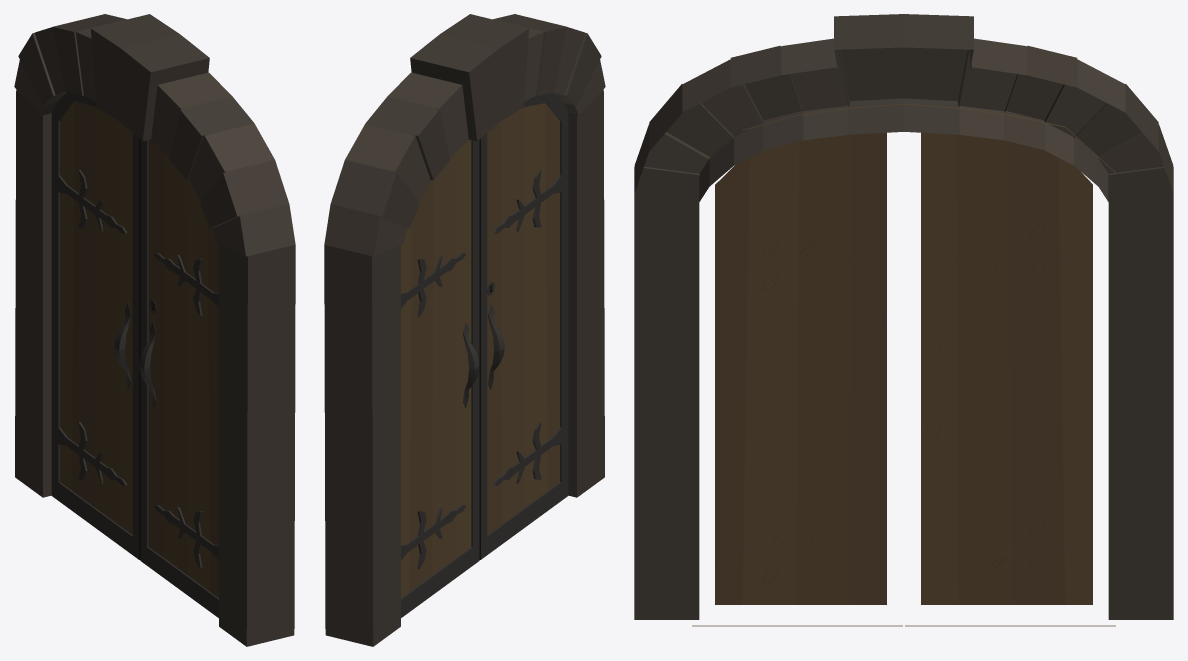
Rendered from Exit_door.fbx.
The picture shows the model from 3 angles, left to right: view 1: azimuth 30°, elevation 25°; view 2: azimuth 150°, elevation 25°; view 3: azimuth 270°, elevation 25°; orthographic projection. The views are drawn at different scales.
Visible parts, largest first — view 1: door_frame_guard_room.001; view 2: door_frame_guard_room.001; view 3: door_frame_guard_room.001.
Boxes of the visible parts, x1,y1,x2,y2 form: door_frame_guard_room.001: (14, 14, 295, 646); door_frame_guard_room.001: (324, 14, 605, 646); door_frame_guard_room.001: (634, 14, 1173, 626).
Bounding box in the file's own units: 32.82 × 269 × 219.
